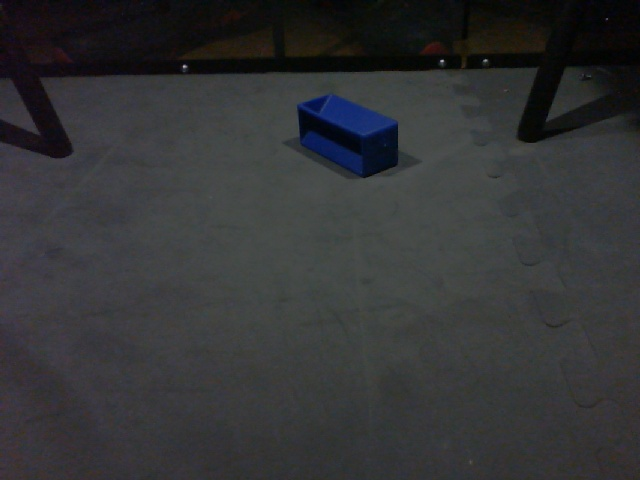BlueSample: (293, 92, 401, 183)
